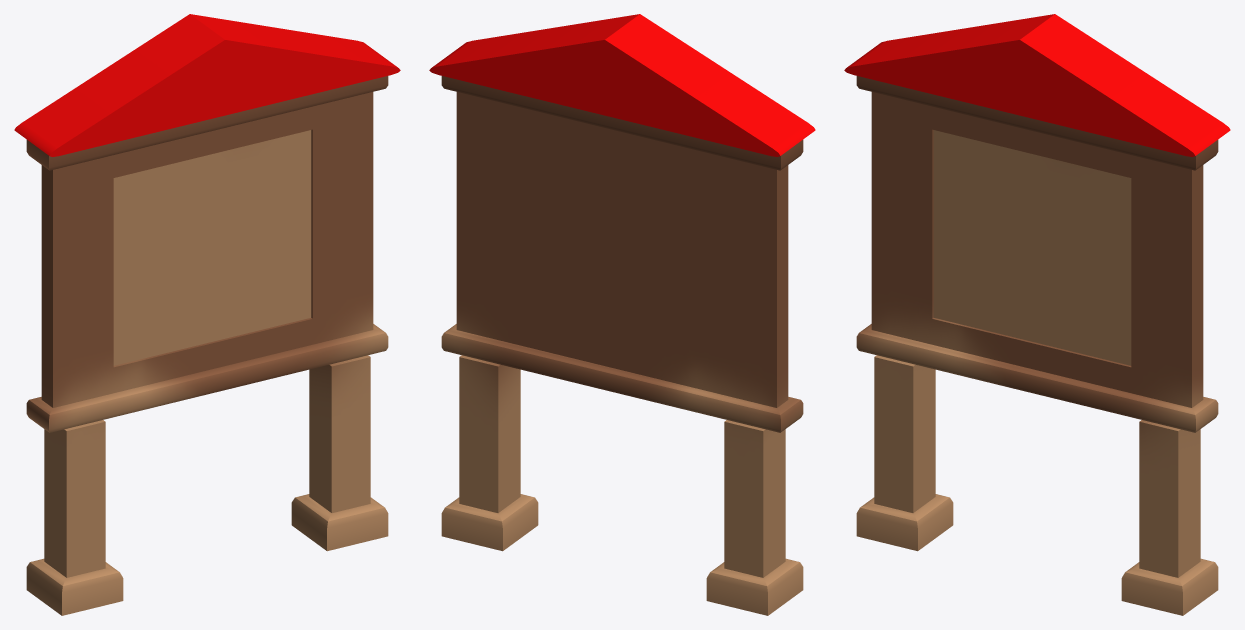
File: billboard2.glb
The picture shows the model from 3 angles, left to right: view 1: azimuth 30°, elevation 25°; view 2: azimuth 150°, elevation 25°; view 3: azimuth 330°, elevation 25°; orthographic projection.
Visible parts, largest first — view 1: billboard2; view 2: billboard2; view 3: billboard2.
Boxes of the visible parts, x1=… form: billboard2: x1=14, y1=14, x2=400, y2=615; billboard2: x1=429, y1=14, x2=815, y2=615; billboard2: x1=844, y1=14, x2=1230, y2=615.
Bounding box in the file's own units: 0.998 × 1.46 × 0.174.
Materials: 1 (1 with a texture image).
